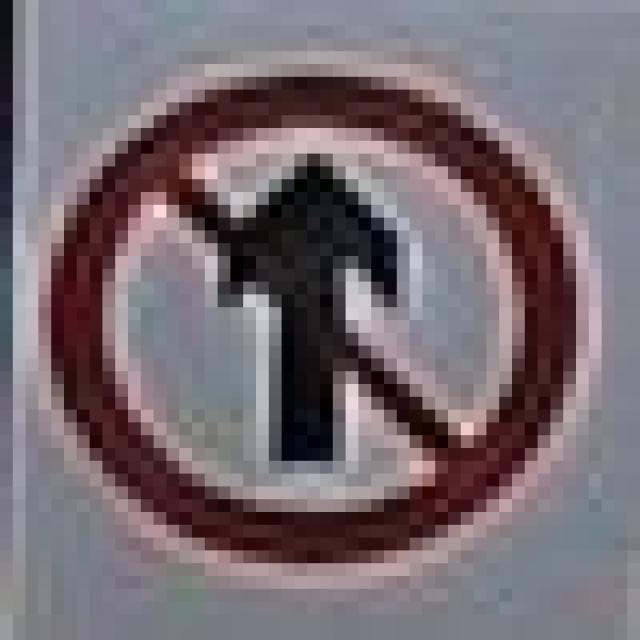straight prohibited: (33, 57, 590, 588)
